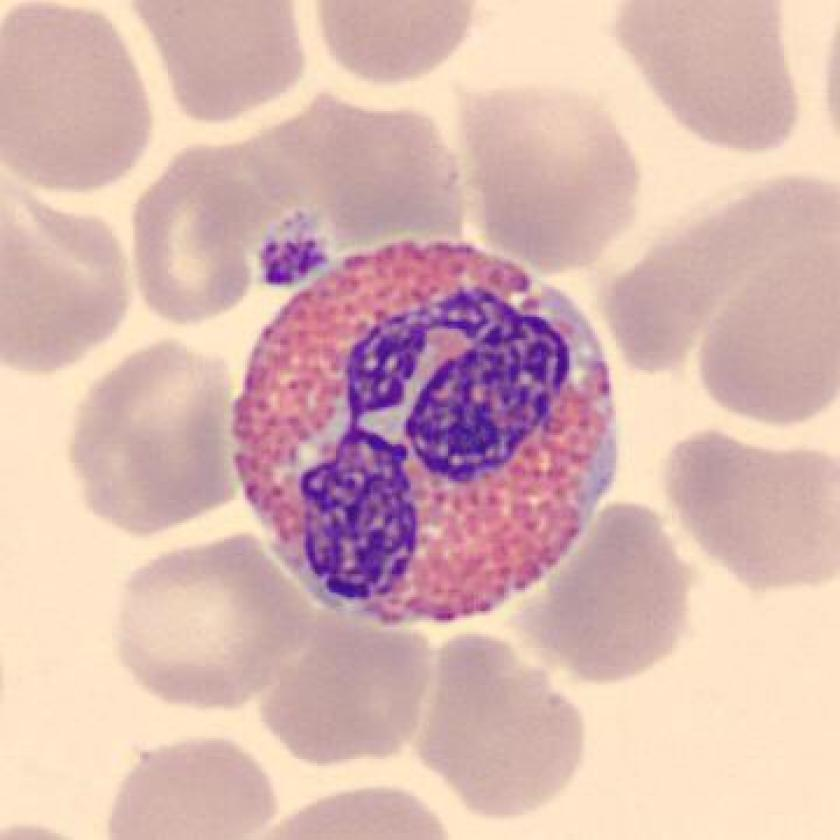eosinophil: (216, 207, 633, 644)
